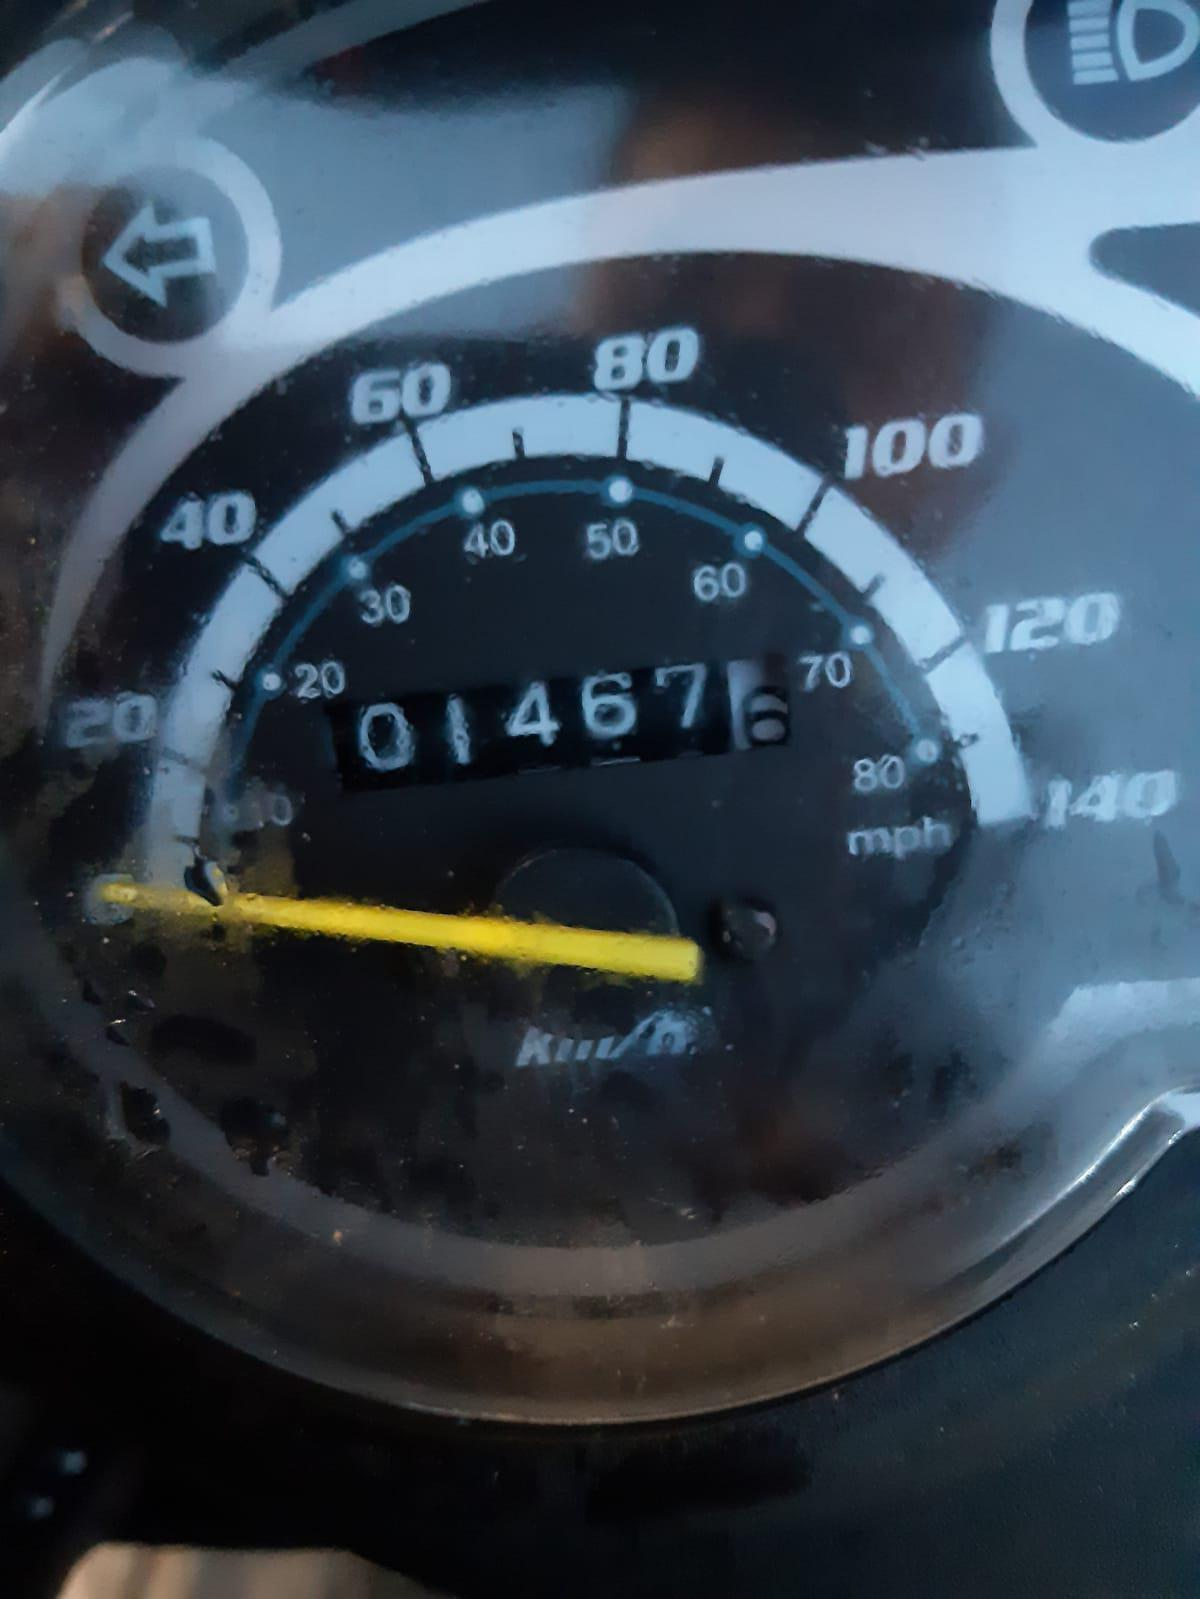0: (355, 701, 418, 776), (320, 659, 345, 694)
1: (439, 691, 485, 770)
4: (504, 675, 563, 751)
6: (576, 668, 637, 740), (736, 680, 793, 754)
7: (654, 656, 711, 735)
odometer: (313, 649, 797, 806)
